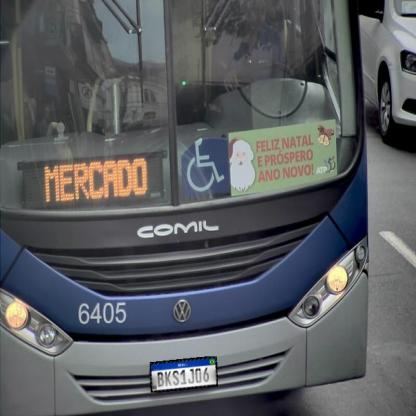PlacaM: (150, 356, 218, 392)
